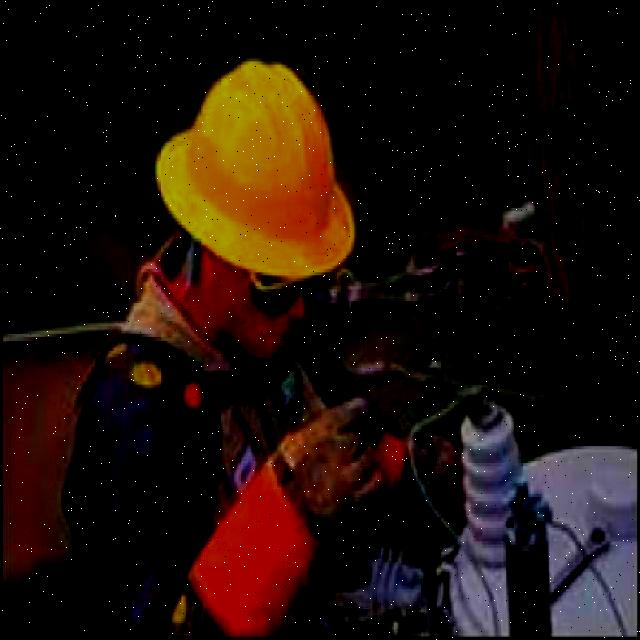Gloves: (214, 399, 380, 630)
Helmet: (161, 56, 361, 275)
